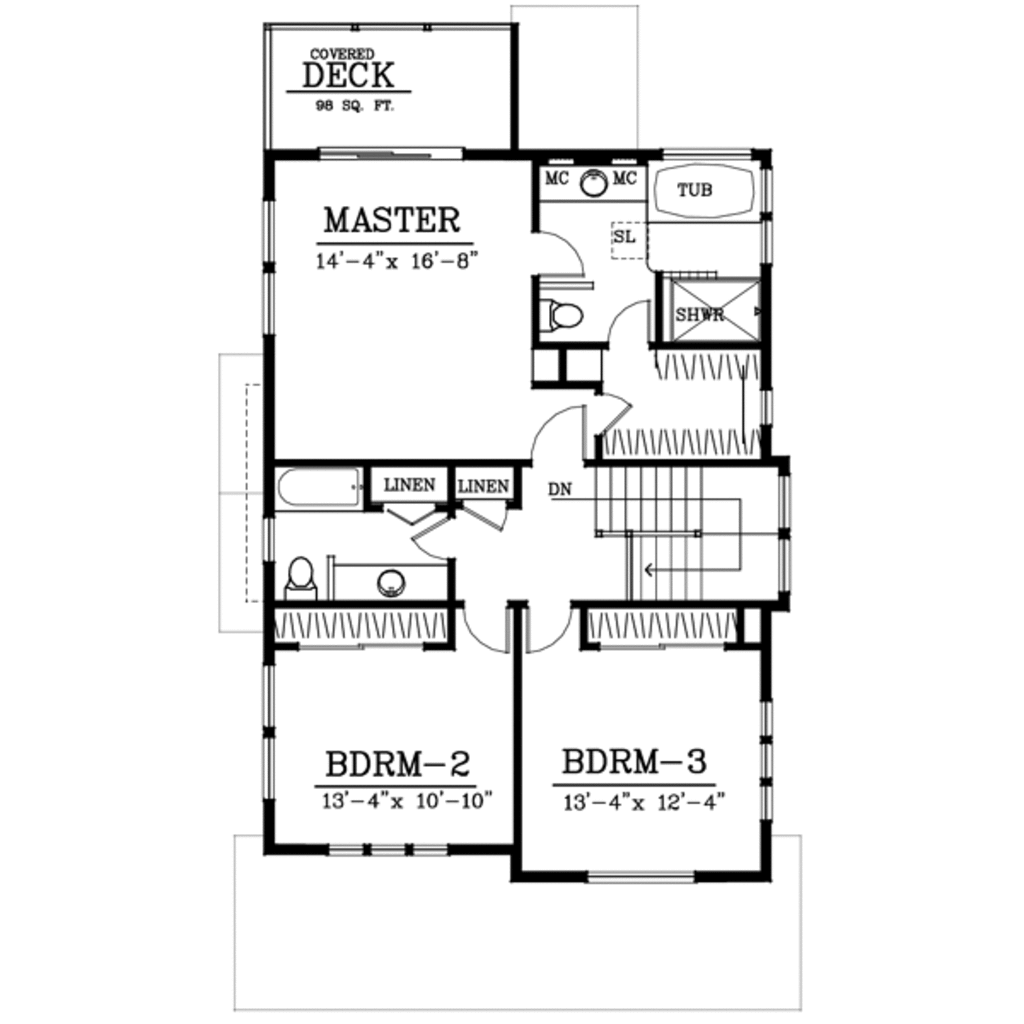door: (527, 397, 591, 467), (523, 228, 591, 282), (456, 600, 517, 655), (406, 503, 453, 567), (597, 300, 653, 346), (591, 392, 645, 433)
large_sink: (531, 289, 603, 342), (280, 553, 330, 603)
small_sink: (331, 564, 445, 605), (542, 161, 642, 205)
stairs: (592, 460, 778, 599)
tub: (648, 152, 770, 227), (273, 466, 366, 511)
window: (592, 867, 697, 888), (263, 661, 284, 730), (261, 735, 280, 802)
